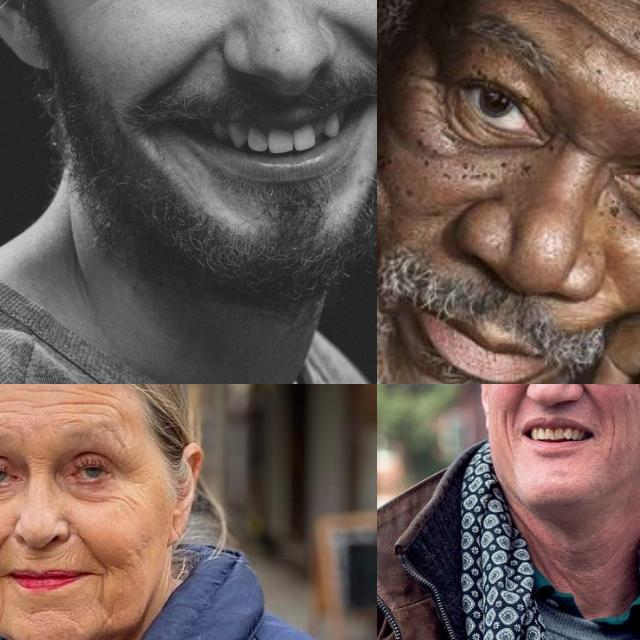chin: (27, 600, 65, 622)
forehead: (587, 8, 640, 69), (54, 386, 122, 420), (0, 392, 28, 421), (506, 0, 569, 12)
frown_line: (564, 130, 604, 164)
gummy_smile: (150, 54, 198, 98), (349, 21, 377, 69), (78, 528, 108, 568), (506, 384, 530, 418), (0, 529, 9, 579), (578, 384, 597, 405)
masseter: (490, 411, 518, 452), (605, 413, 621, 462), (112, 486, 138, 514)
sad_smile: (94, 573, 112, 619), (0, 589, 11, 626)
